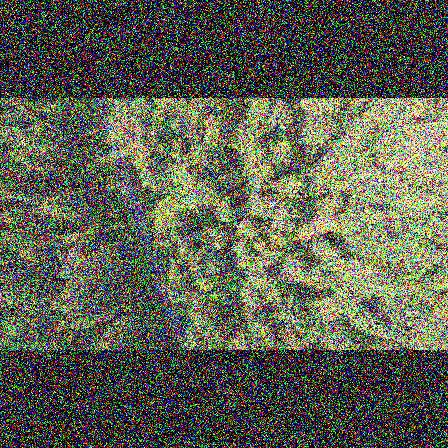Sick: (260, 193, 284, 213)
